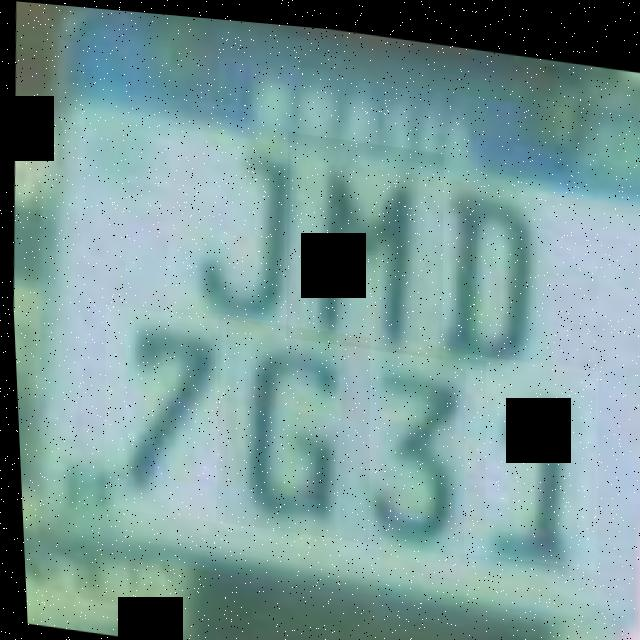1: (452, 345, 602, 562)
3: (329, 335, 490, 553)
7: (93, 302, 231, 521)
G: (204, 312, 375, 538)
J: (156, 122, 309, 334)
M: (276, 126, 450, 352)
